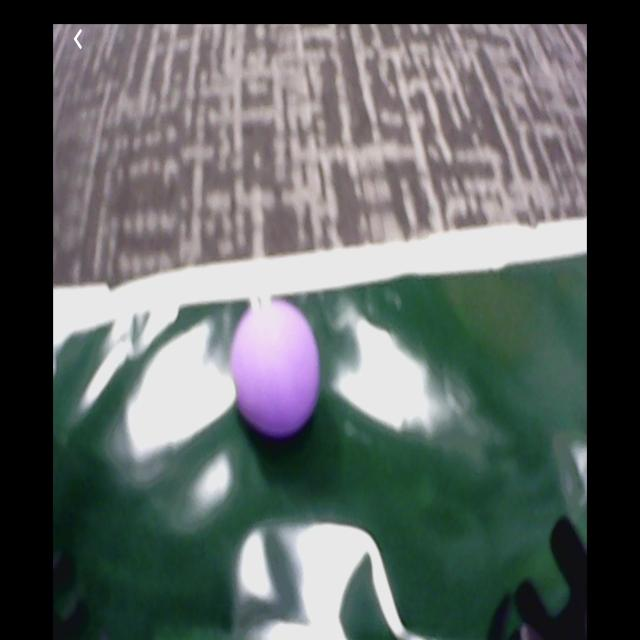ball: (232, 302, 321, 436)
